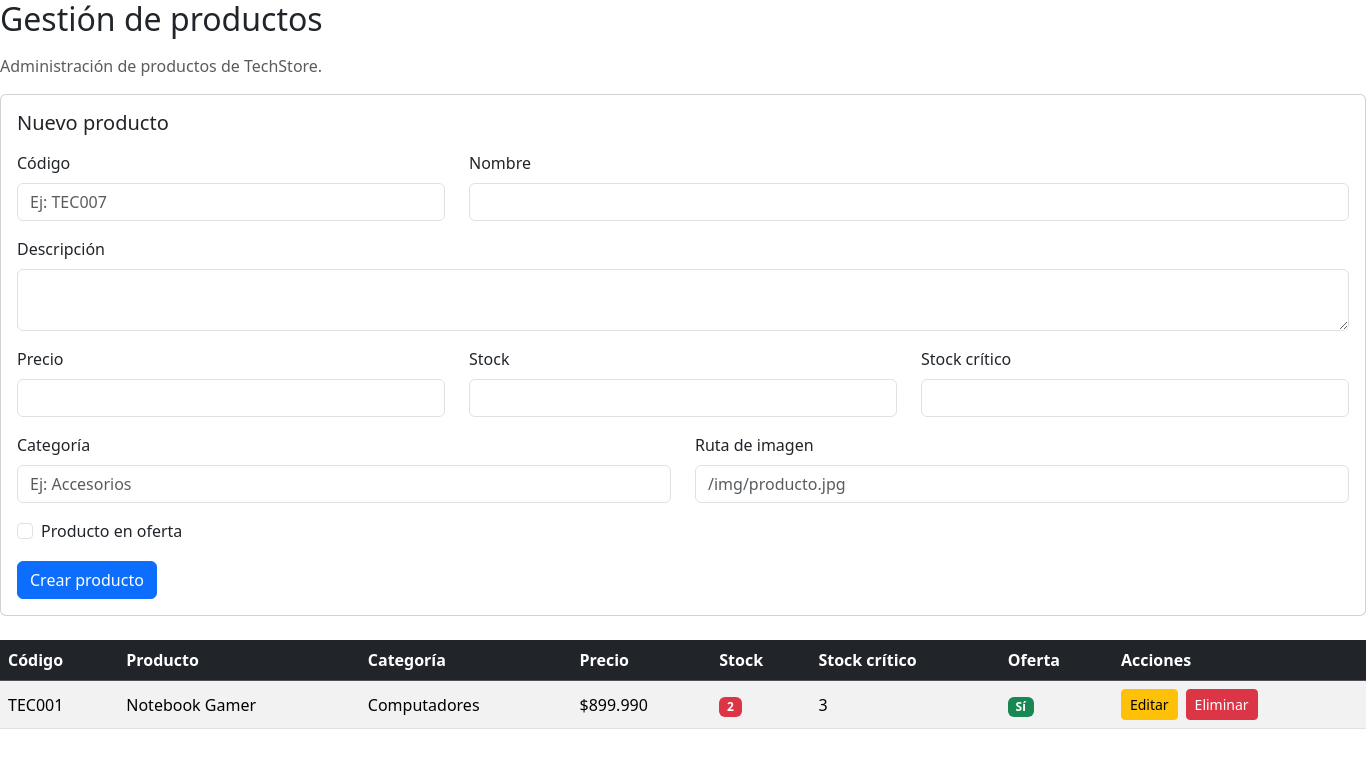
Test case: AdminProductos › carga los datos de un producto al editar
Click the button "Editar" at (1149, 705), box [1121, 689, 1178, 720]
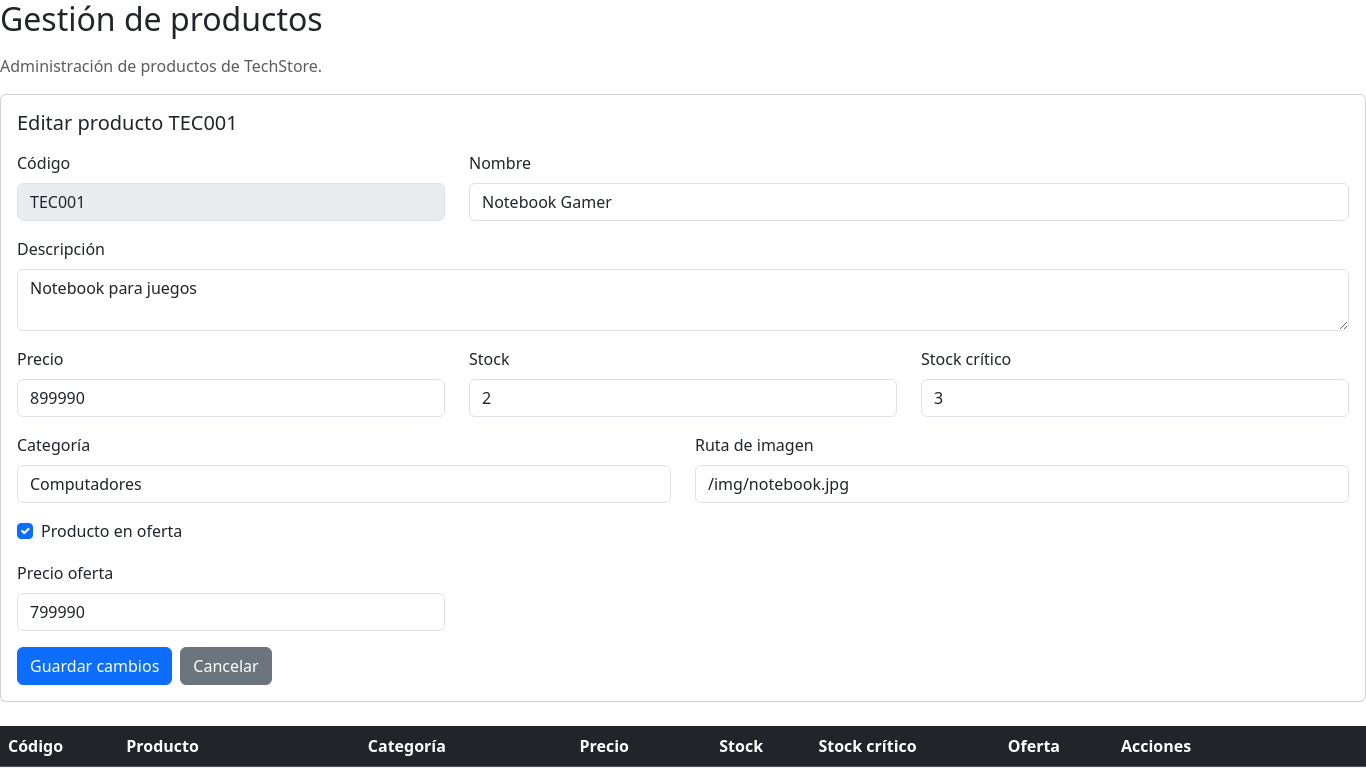
Check: the heading "Editar producto TEC001" is shown, box [17, 109, 238, 136]
Check: the field labelled "Código" is disabled, box [17, 183, 445, 221]
Check: the field labelled "Código" holds "TEC001", box [17, 183, 445, 221]
